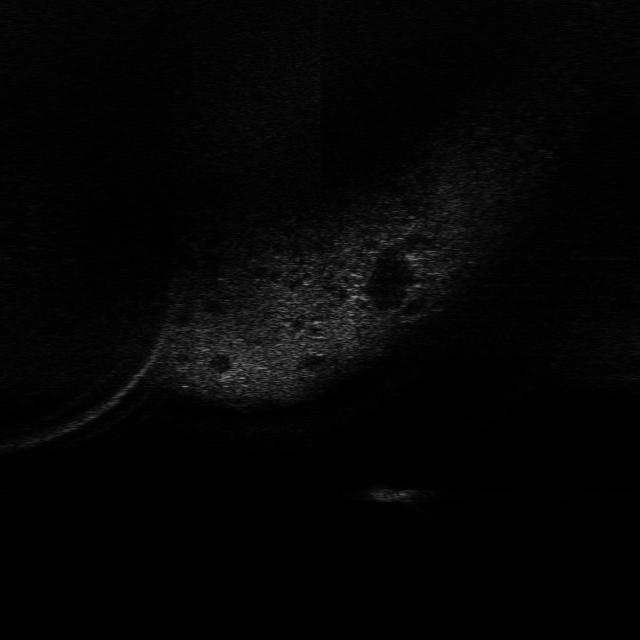cube: (359, 480, 428, 508)
